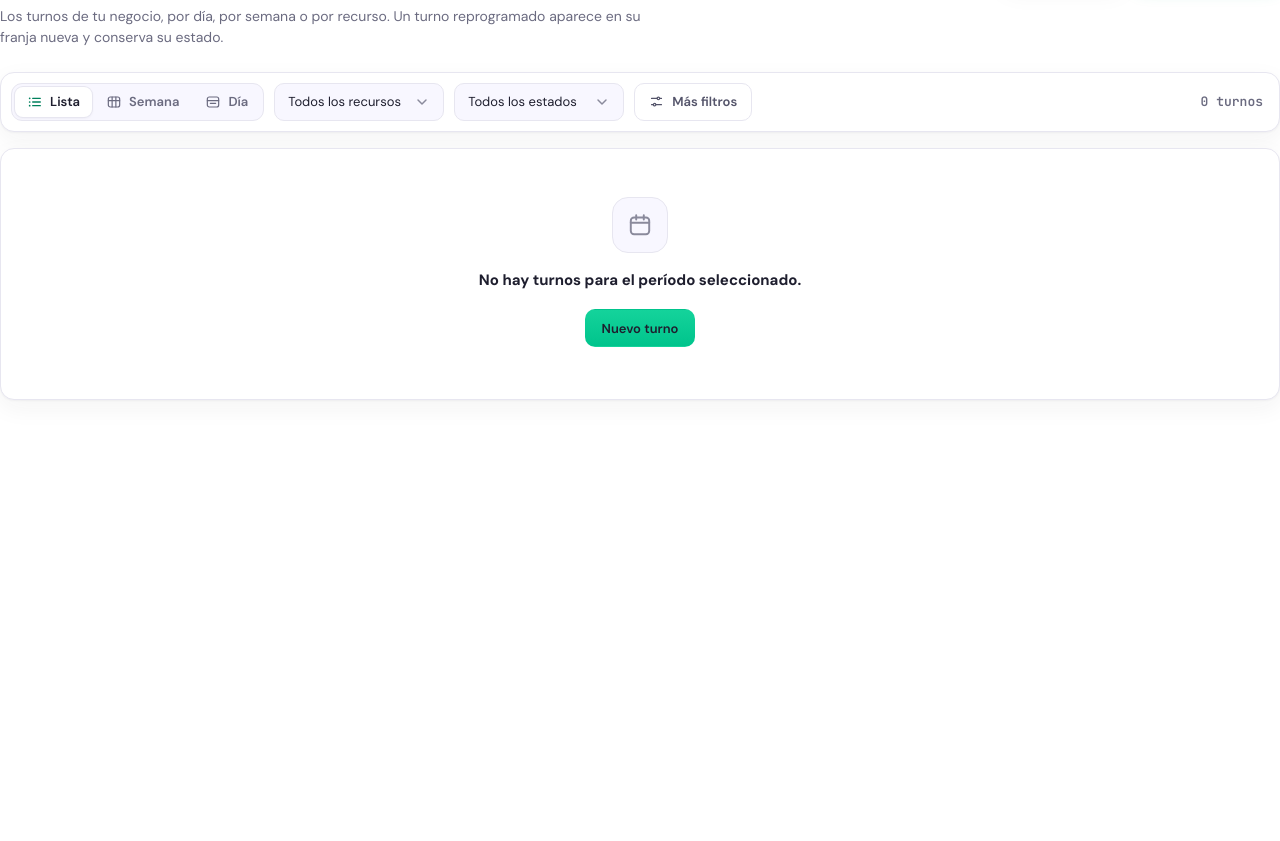
Test: Agenda · vistas › en la vista Día hay una columna por recurso y conserva los filtros elegidos
This screenshot has width=1280, height=841.
Select "Reservado" in the 2nd dropdown named "Estado" at (539, 102), box [454,83,624,121]
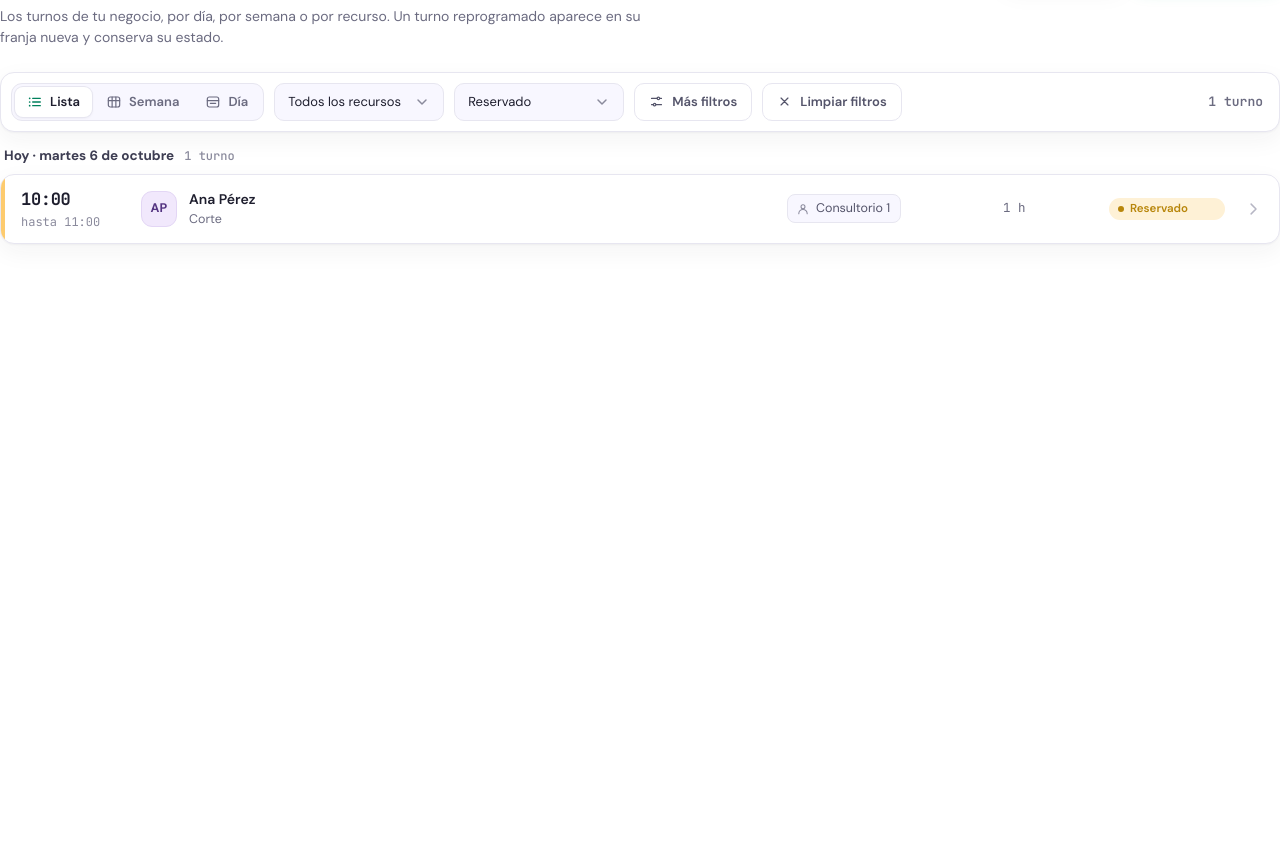
Click the button "Día" at (227, 102), box [193,87,260,117]
(page scrolled)
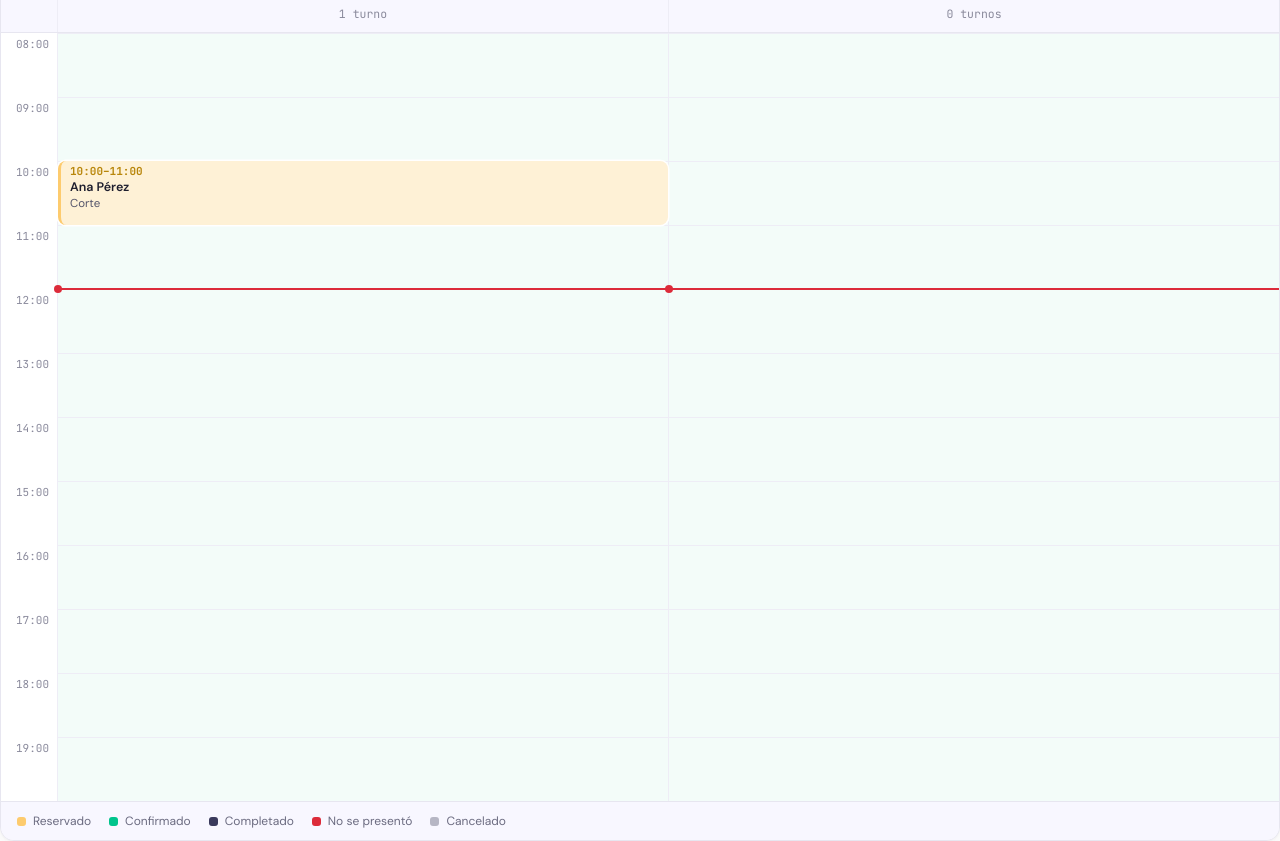
Result: the element named "Consultorio 1" is shown at [57,33,668,801]
Result: the element named "Consultorio 2" is shown at [668,33,1279,801]
